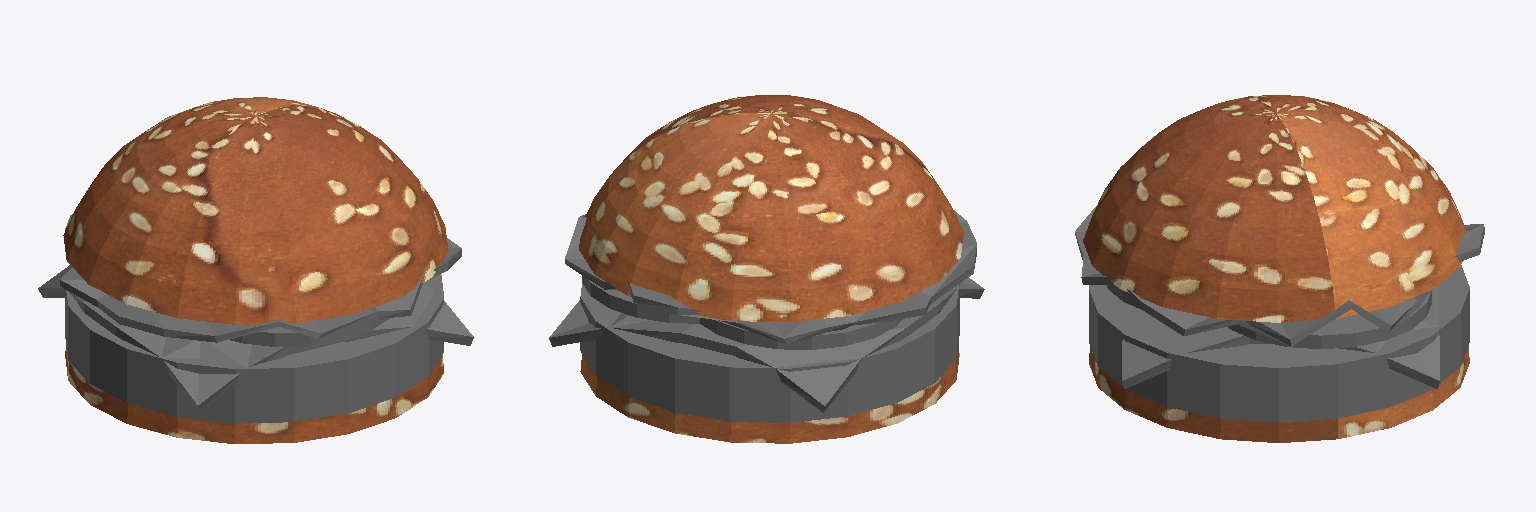
The picture shows the model from 3 angles: view 1: azimuth 30°, elevation 25°; view 2: azimuth 150°, elevation 25°; view 3: azimuth 270°, elevation 25°; orthographic projection.
Parts seen in each view (by area): view 1: Bun1:pSphere1; view 2: Bun1:pSphere1; view 3: Bun1:pSphere1.
Part boxes in pixels (bbox=[...]): Bun1:pSphere1: bbox=[38, 97, 473, 443]; Bun1:pSphere1: bbox=[549, 95, 984, 443]; Bun1:pSphere1: bbox=[1075, 95, 1484, 442].
Bounding box in the file's own units: 2.15 × 1.64 × 2.15.
Materials: 3 (1 with a texture image).